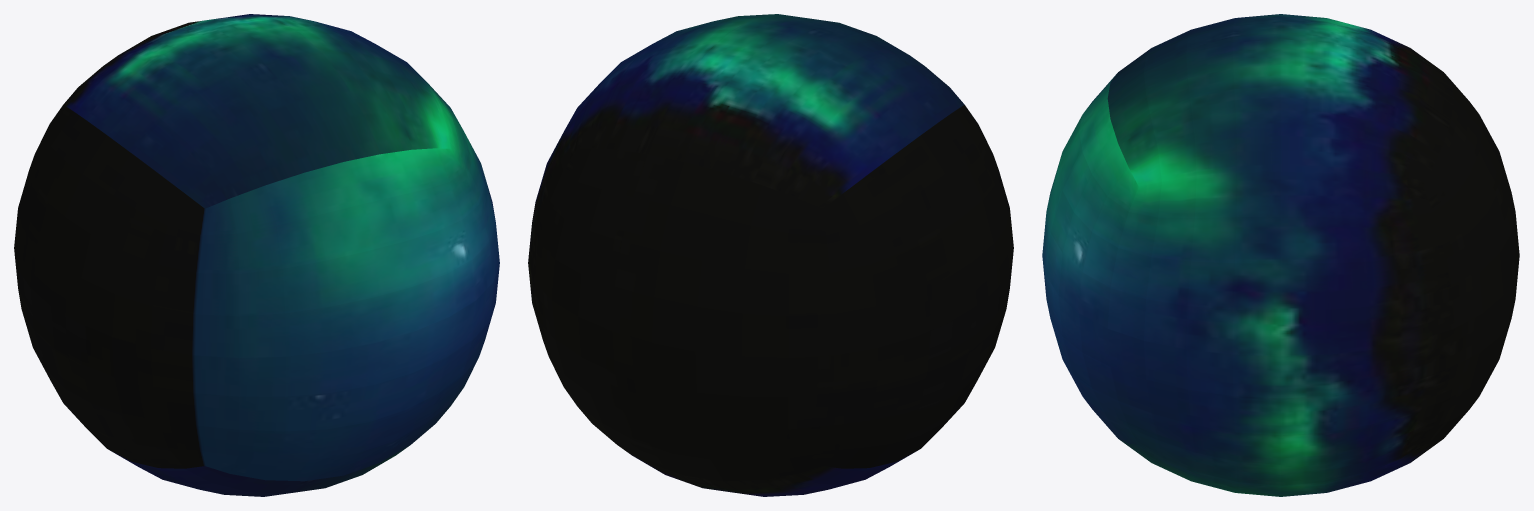
File: sky.glb
3 views of the same model, side by side, from view 1: azimuth 30°, elevation 25°; view 2: azimuth 150°, elevation 25°; view 3: azimuth 270°, elevation 25° (orthographic).
Visible parts, largest first — view 1: Cube; view 2: Cube; view 3: Cube.
Part boxes in pixels (<box>): Cube: <box>14,14,499,496</box>; Cube: <box>528,14,1013,496</box>; Cube: <box>1042,14,1519,496</box>.
Size of the model in its own units: 1184 by 1184 by 1184.
1 material, 1 textured.
